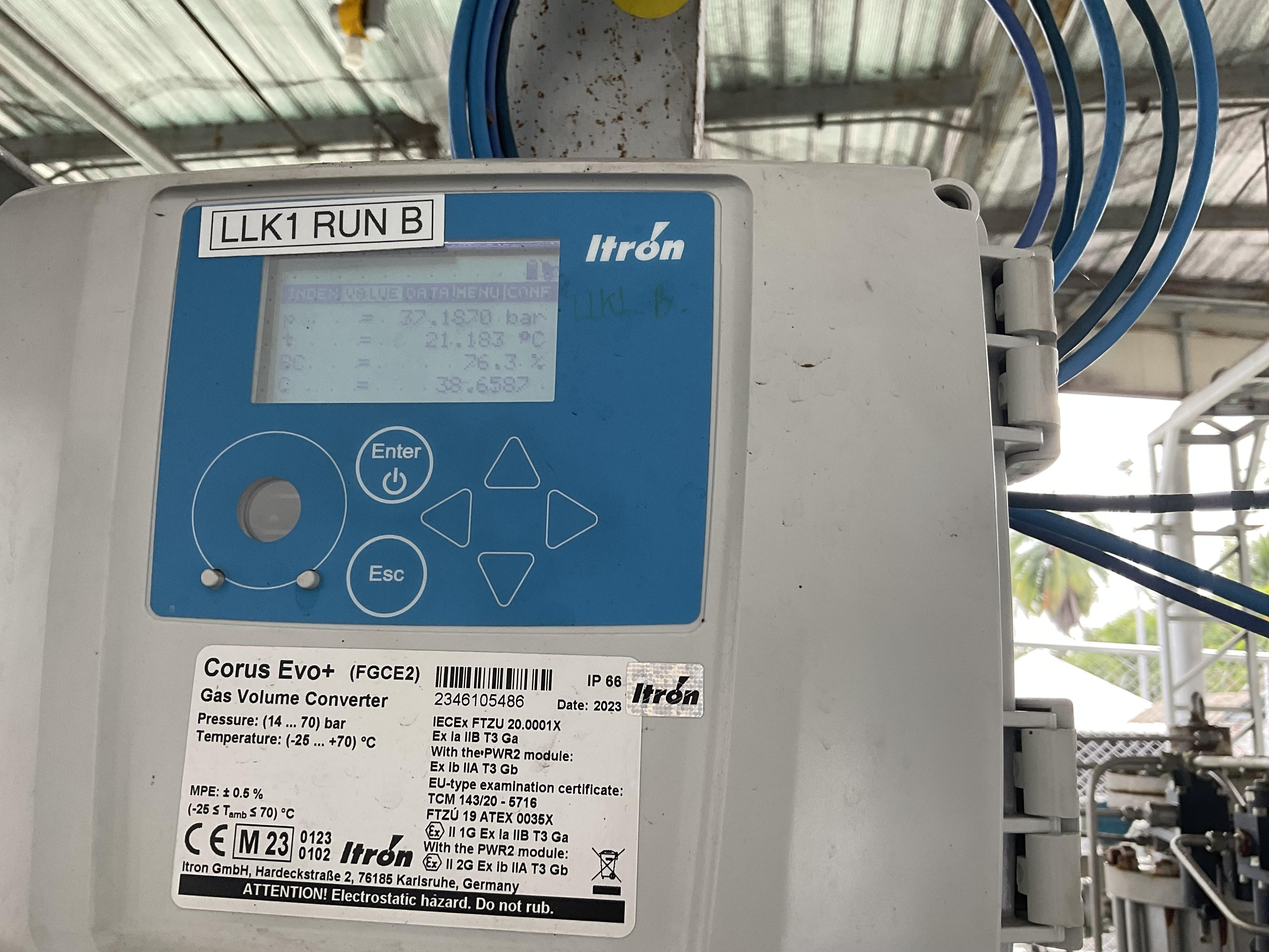digital_screen: (248, 238, 563, 406)
